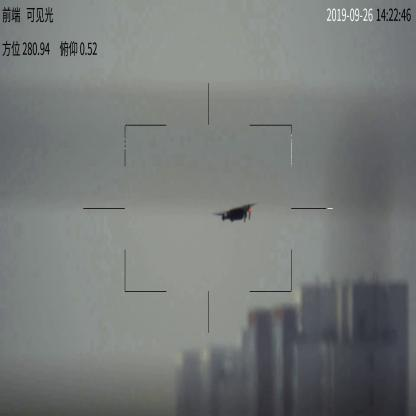uav: (212, 199, 258, 227)
